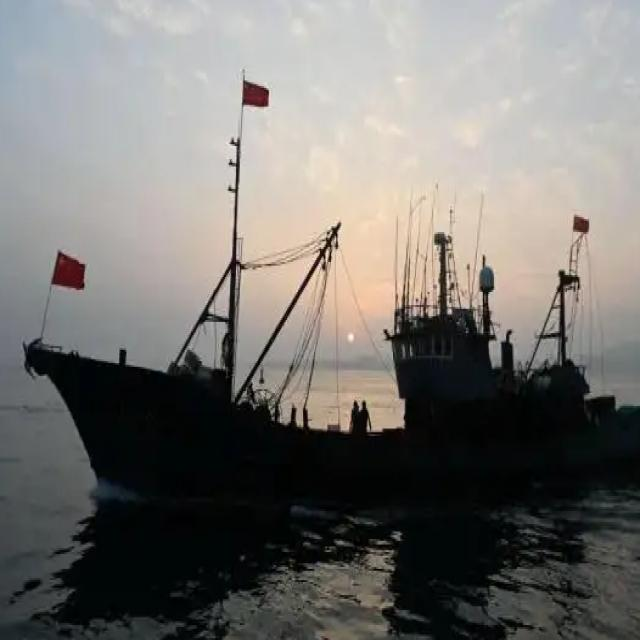fishing boat: (41, 72, 490, 508), (395, 206, 640, 477)
